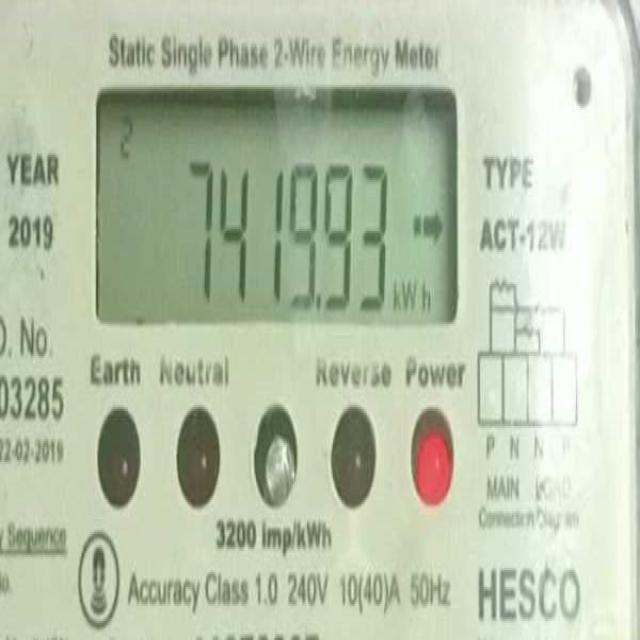1: (262, 165, 290, 316)
3: (361, 160, 391, 318)
4: (218, 152, 255, 310)
7: (185, 155, 216, 305)
9: (320, 162, 358, 320), (287, 158, 318, 313)
Digital meter: (99, 99, 459, 331)
point: (313, 289, 328, 322)
